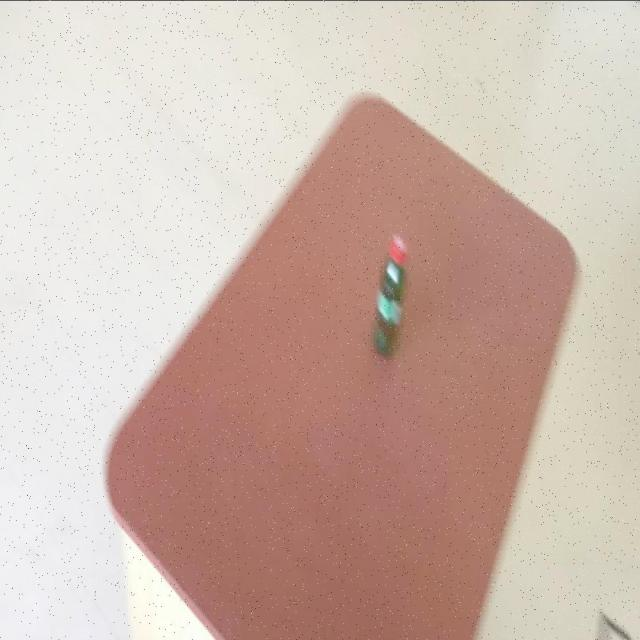Guarana: (101, 91, 578, 640), (371, 234, 408, 360)
